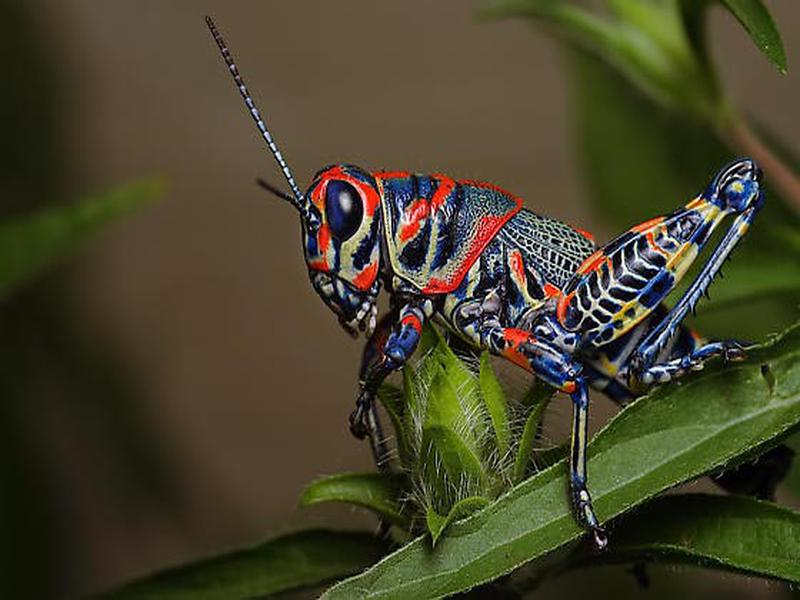Grasshopper: (258, 135, 767, 406)
